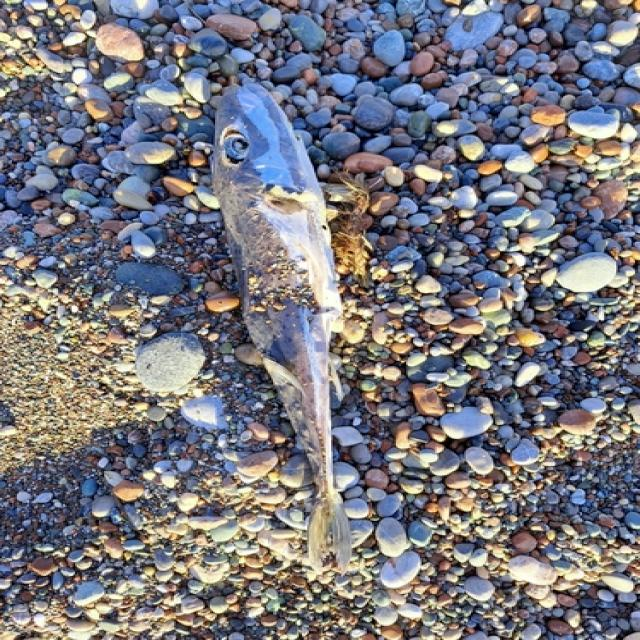Balik: (212, 85, 351, 572)
